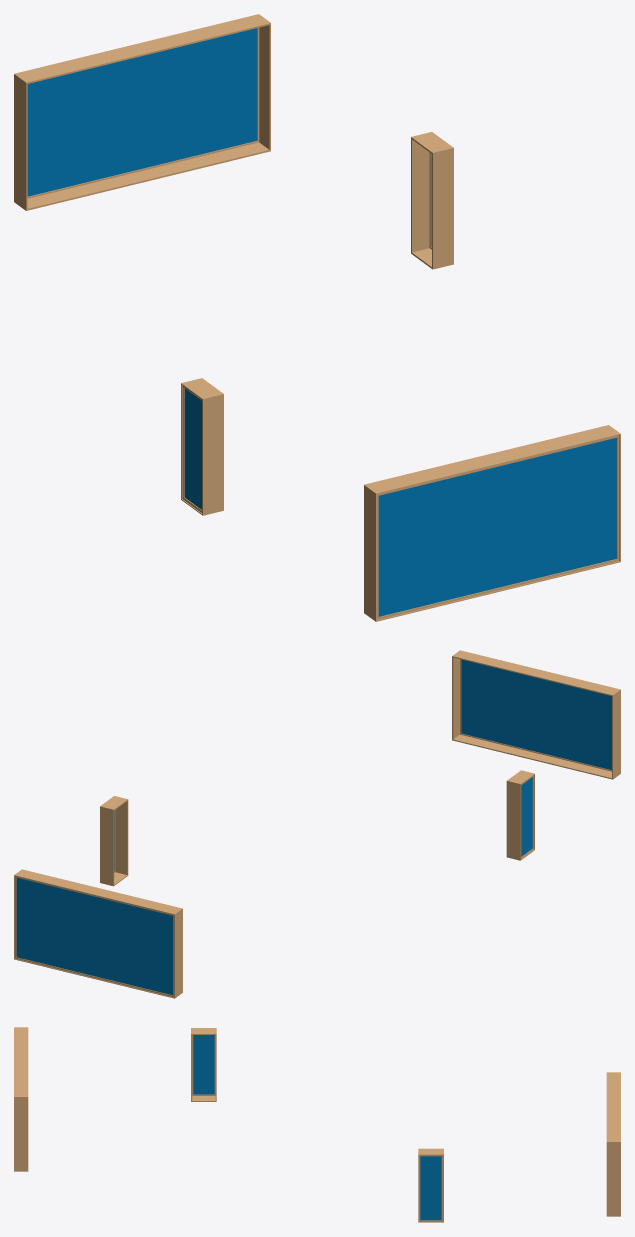
File: Duplex_Level_1_IfcWindow.dae
The picture shows the model from 3 angles, top to bottom: view 1: azimuth 30°, elevation 25°; view 2: azimuth 150°, elevation 25°; view 3: azimuth 270°, elevation 25°; orthographic projection. The views are drawn at different scales.
Parts seen in each view (by area): view 1: 1hOSvn6df7F8_7GcBWlRBU, 1hOSvn6df7F8_7GcBWlR72, 1hOSvn6df7F8_7GcBWlRLx, 1hOSvn6df7F8_7GcBWlRRL; view 2: 1hOSvn6df7F8_7GcBWlRBU, 1hOSvn6df7F8_7GcBWlR72, 1hOSvn6df7F8_7GcBWlRRL, 1hOSvn6df7F8_7GcBWlRLx; view 3: 1hOSvn6df7F8_7GcBWlRBU, 1hOSvn6df7F8_7GcBWlR72, 1hOSvn6df7F8_7GcBWlRLx, 1hOSvn6df7F8_7GcBWlRRL.
Boxes of the visible parts, bbox=[...] form: 1hOSvn6df7F8_7GcBWlRBU: bbox=[364, 425, 620, 621]; 1hOSvn6df7F8_7GcBWlR72: bbox=[14, 14, 270, 210]; 1hOSvn6df7F8_7GcBWlRLx: bbox=[411, 132, 453, 269]; 1hOSvn6df7F8_7GcBWlRRL: bbox=[181, 378, 223, 515]; 1hOSvn6df7F8_7GcBWlRBU: bbox=[452, 650, 620, 779]; 1hOSvn6df7F8_7GcBWlR72: bbox=[14, 869, 182, 998]; 1hOSvn6df7F8_7GcBWlRRL: bbox=[506, 770, 534, 860]; 1hOSvn6df7F8_7GcBWlRLx: bbox=[100, 796, 128, 886]; 1hOSvn6df7F8_7GcBWlRBU: bbox=[14, 1027, 28, 1171]; 1hOSvn6df7F8_7GcBWlR72: bbox=[606, 1072, 620, 1216]; 1hOSvn6df7F8_7GcBWlRLx: bbox=[418, 1148, 443, 1222]; 1hOSvn6df7F8_7GcBWlRRL: bbox=[191, 1028, 216, 1101].
Bounding box in the file's own units: 8.8 × 17.8 × 2.42.
